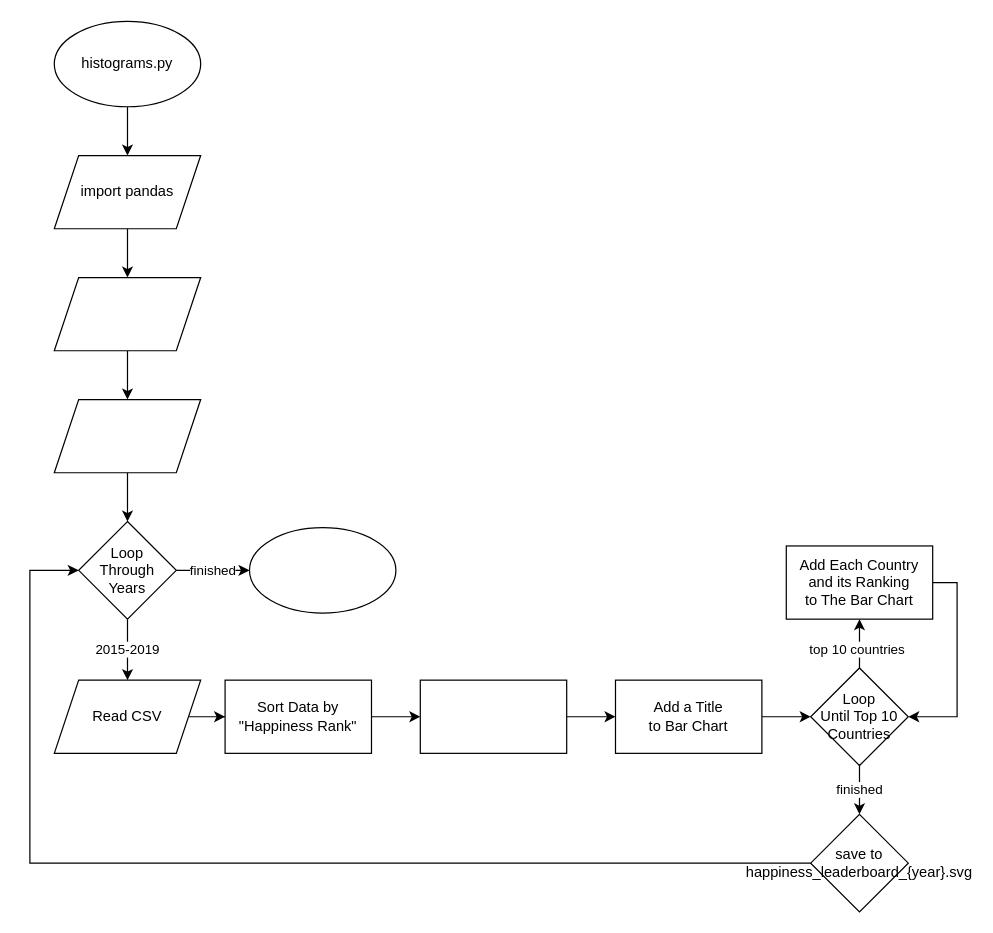
The diagram is 993 pixels wide and 933 high, and some of its shapes have lost their labels. Each missing label, with the centre of its shape:
"Define CSVs" belongs at (127,435).
"End" belongs at (322,569).
"import pygal" belongs at (127,313).
"Select Top 10 Countries" belongs at (493,716).
